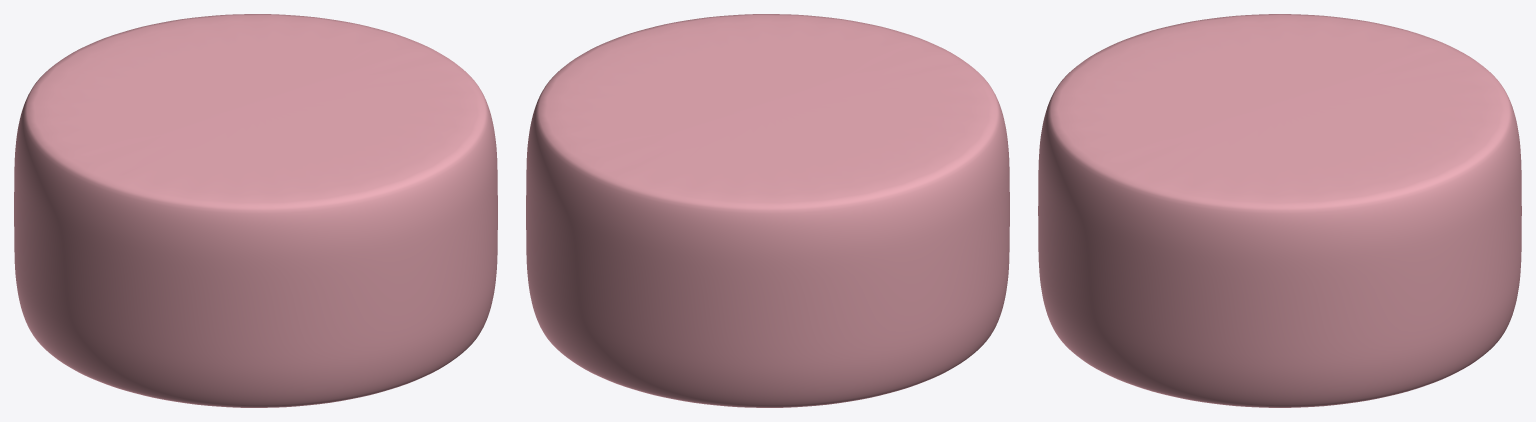
The model's file is CakeBigLayerCherry.glb.
The picture shows the model from 3 angles, left to right: view 1: azimuth 30°, elevation 25°; view 2: azimuth 150°, elevation 25°; view 3: azimuth 270°, elevation 25°; orthographic projection.
Visible parts, largest first — view 1: Cylinder.010; view 2: Cylinder.010; view 3: Cylinder.010.
Part boxes in pixels (x1,y1,x2,y2): Cylinder.010: (14,14,497,407); Cylinder.010: (526,14,1009,407); Cylinder.010: (1038,14,1521,407).
Size of the model in its own units: 1.99 by 0.9471 by 1.99.
